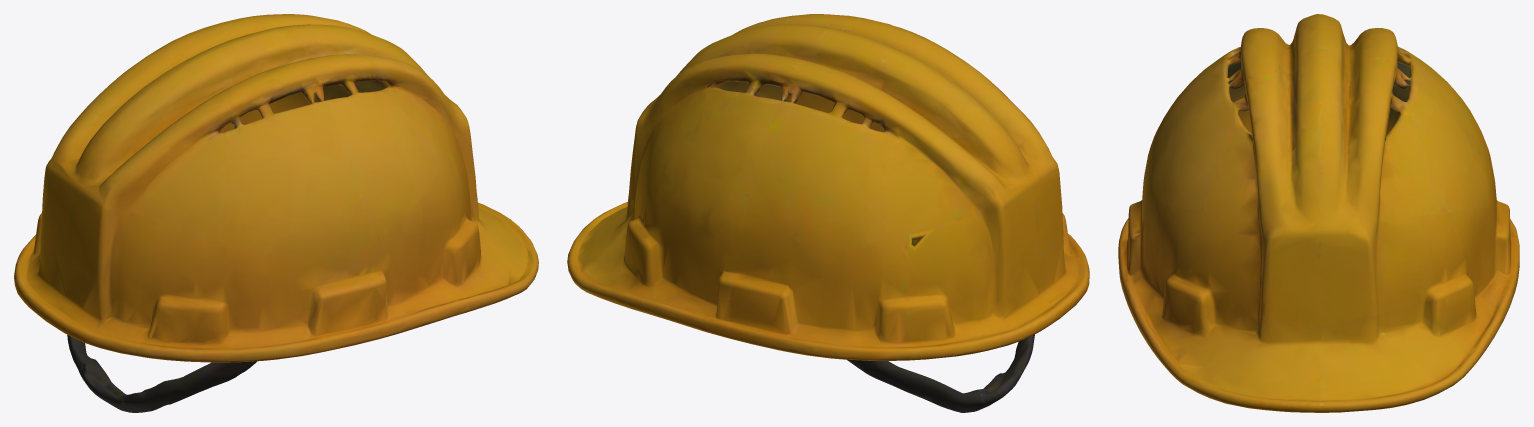
File: hard_hat.glb
3 views of the same model, side by side, from view 1: azimuth 30°, elevation 25°; view 2: azimuth 150°, elevation 25°; view 3: azimuth 270°, elevation 25° (orthographic).
Visible parts, largest first — view 1: tripo_node_14474a52-efae-4e28-9194-8b688185091d; view 2: tripo_node_14474a52-efae-4e28-9194-8b688185091d; view 3: tripo_node_14474a52-efae-4e28-9194-8b688185091d.
Boxes of the visible parts, x1=… form: tripo_node_14474a52-efae-4e28-9194-8b688185091d: x1=14, y1=14, x2=538, y2=412; tripo_node_14474a52-efae-4e28-9194-8b688185091d: x1=567, y1=14, x2=1089, y2=412; tripo_node_14474a52-efae-4e28-9194-8b688185091d: x1=1118, y1=14, x2=1519, y2=412.
Size of the model in its own units: 0.9494 by 0.6462 by 0.7103.
1 material, 1 textured.
